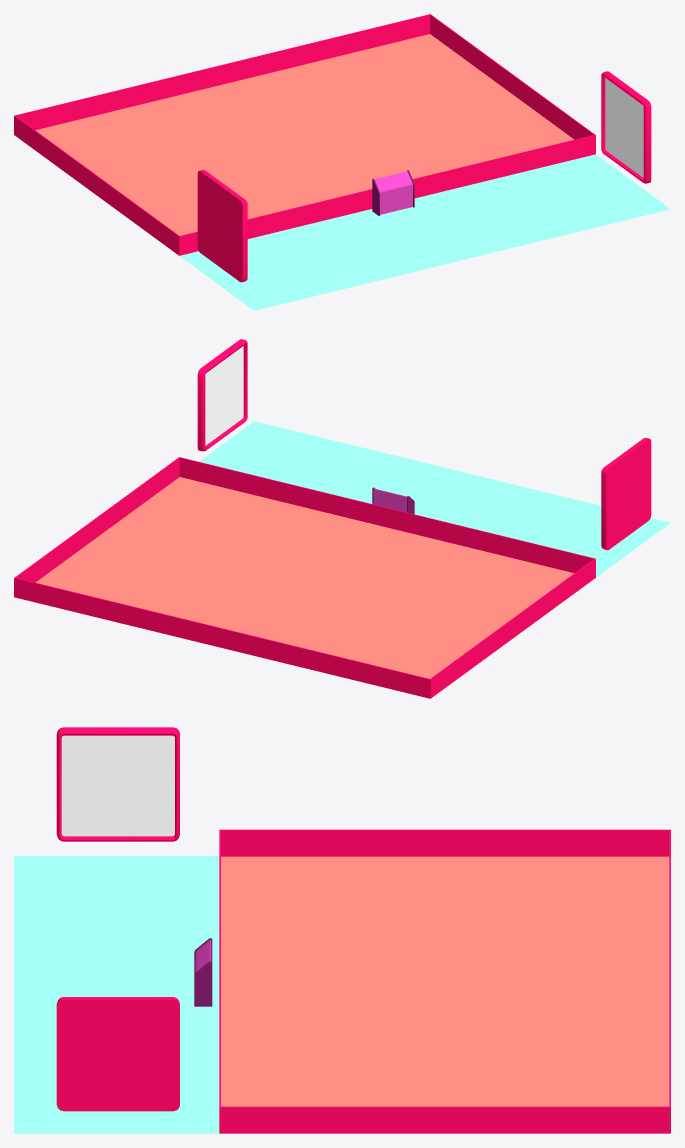
File: environment.glb
The picture shows the model from 3 angles, top to bottom: view 1: azimuth 30°, elevation 25°; view 2: azimuth 150°, elevation 25°; view 3: azimuth 270°, elevation 25°; orthographic projection. The views are drawn at different scales.
Parts seen in each view (by area): view 1: Zone_Play, Zone_Spectator, Zone_Play.001, SquareFrame (×2), WorkstationInitiateGame; view 2: Zone_Play, Zone_Play.001, Zone_Spectator, SquareFrame (×2), WorkstationInitiateGame; view 3: Zone_Play, Zone_Spectator, SquareFrame (×2), Zone_Play.001, WorkstationInitiateGame.
Boxes of the visible parts, box(x1,y1,x2,y2) form: Zone_Play: box(36, 34, 573, 235); Zone_Spectator: box(180, 154, 670, 310); Zone_Play.001: box(14, 14, 595, 255); SquareFrame (×2): box(197, 71, 651, 282); WorkstationInitiateGame: box(372, 170, 414, 215); Zone_Play: box(36, 477, 573, 678); Zone_Play.001: box(14, 457, 595, 698); Zone_Spectator: box(199, 421, 670, 577); SquareFrame (×2): box(197, 339, 651, 550); WorkstationInitiateGame: box(372, 487, 414, 514); Zone_Play: box(221, 856, 669, 1106); Zone_Spectator: box(14, 856, 219, 1133); SquareFrame (×2): box(56, 727, 179, 1111); Zone_Play.001: box(219, 829, 670, 1133); WorkstationInitiateGame: box(194, 938, 212, 1006).
Size of the model in its own units: 16 by 3.53 by 16.
1 material, 1 textured.
